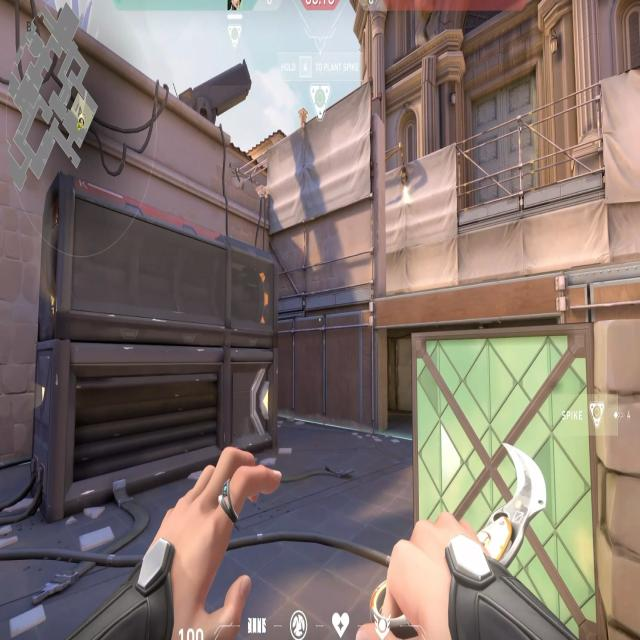A_Heaven_Wall: (265, 124, 385, 294)
A_Site_Box: (412, 332, 640, 640)
